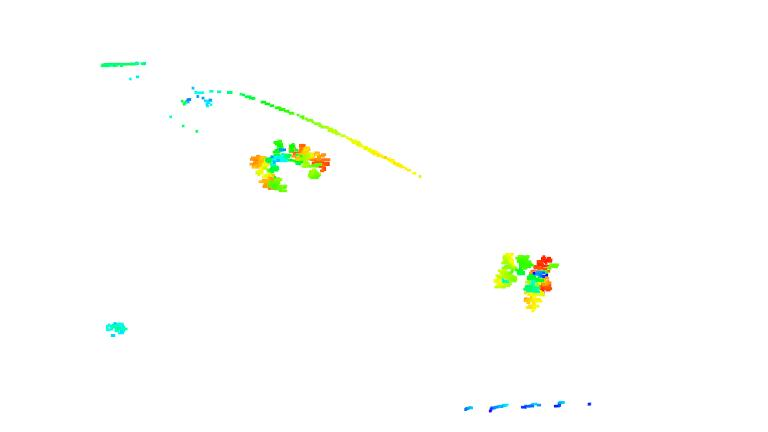chickpea: (242, 136, 334, 195), (496, 249, 566, 314)
